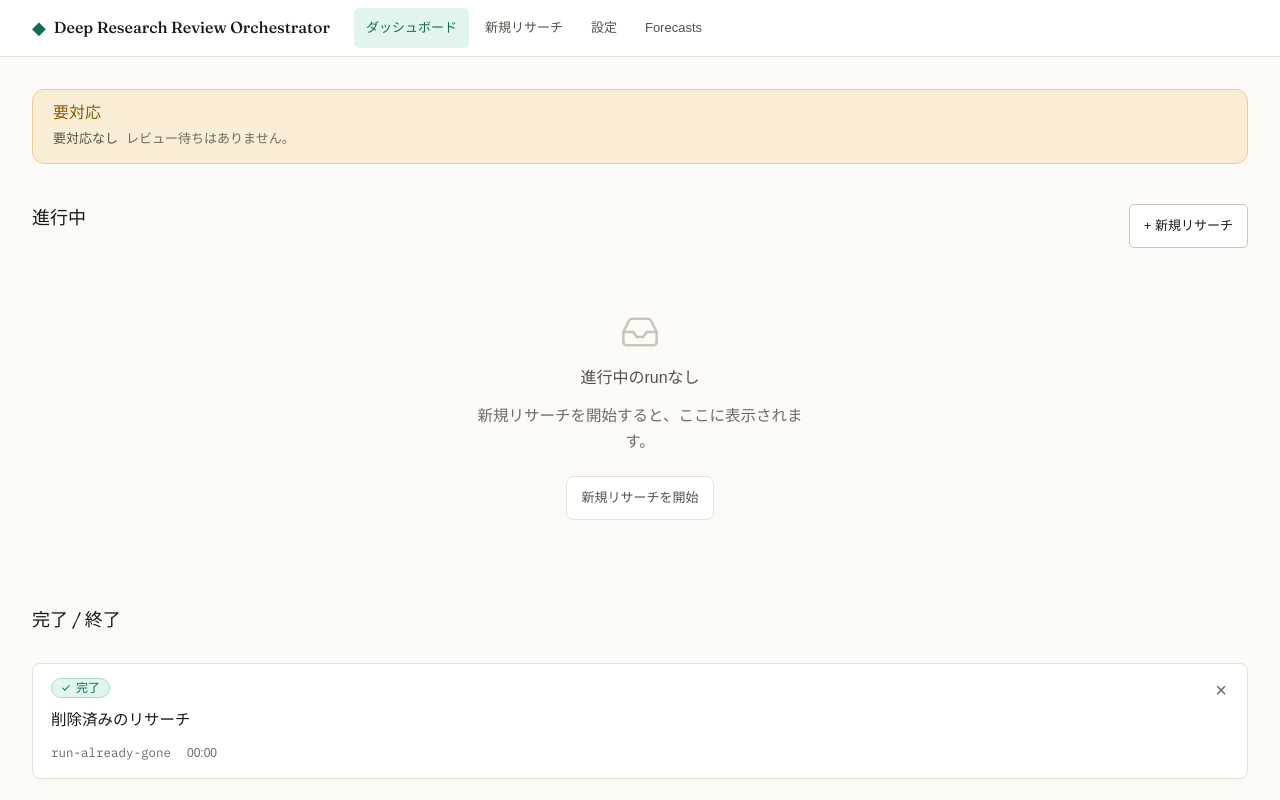
Test: Dashboard (SCR-2) › removes a tracked run locally when backend delete returns 404
Expected: the text "削除済みのリサーチ" is shown, [51,711,190,728]
Click the button named "削除: 削除済みのリサーチ" at (1221, 690), box [1207,676,1235,704]
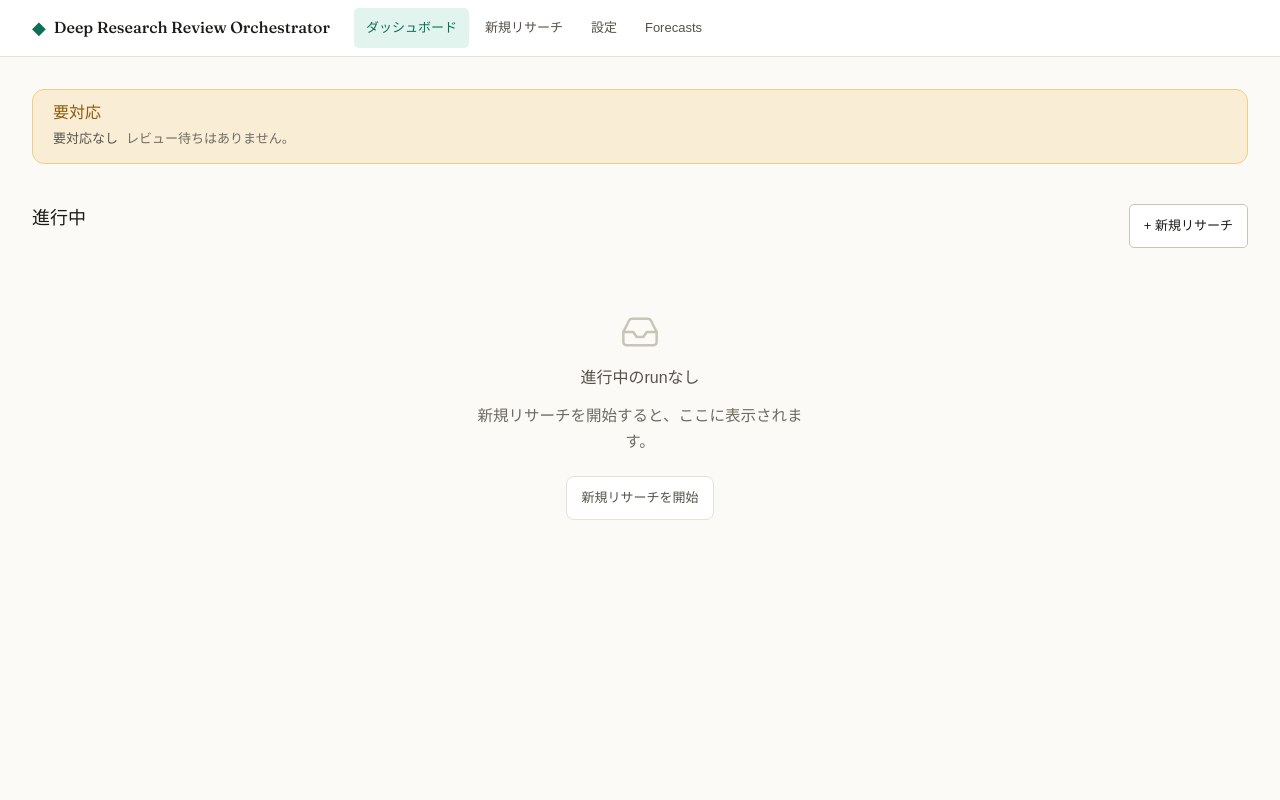
Now the link "削除済みのリサーチ" is gone
